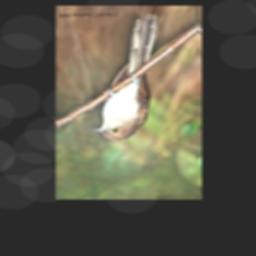Cuckoo: (90, 14, 161, 142)
